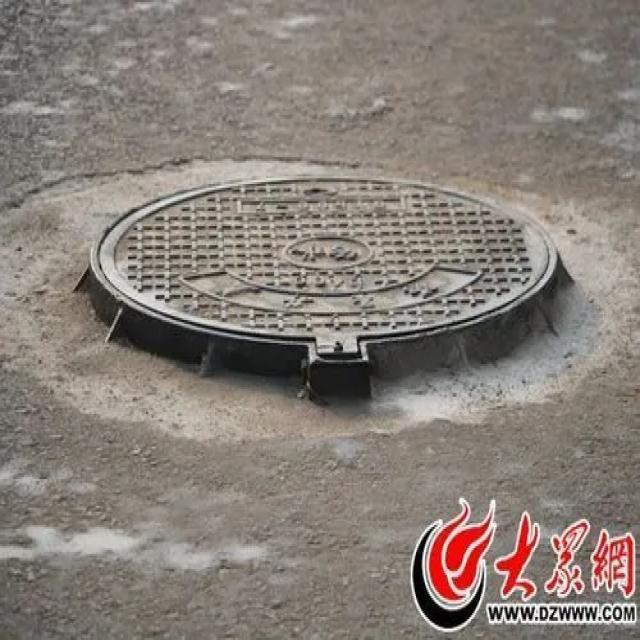manhole: (83, 163, 567, 403)
